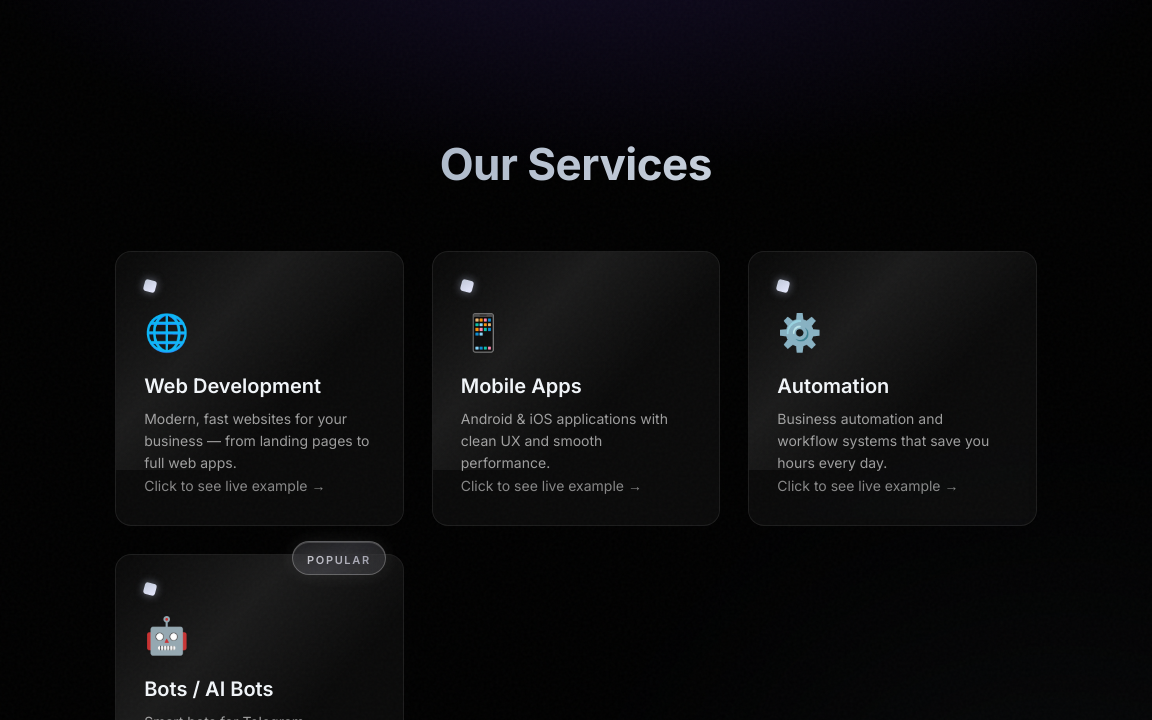
Test: the modal a card opens › Escape and the overlay both close it
Click the element "Web Development".
click(259, 388)  # box [115,250,404,526]
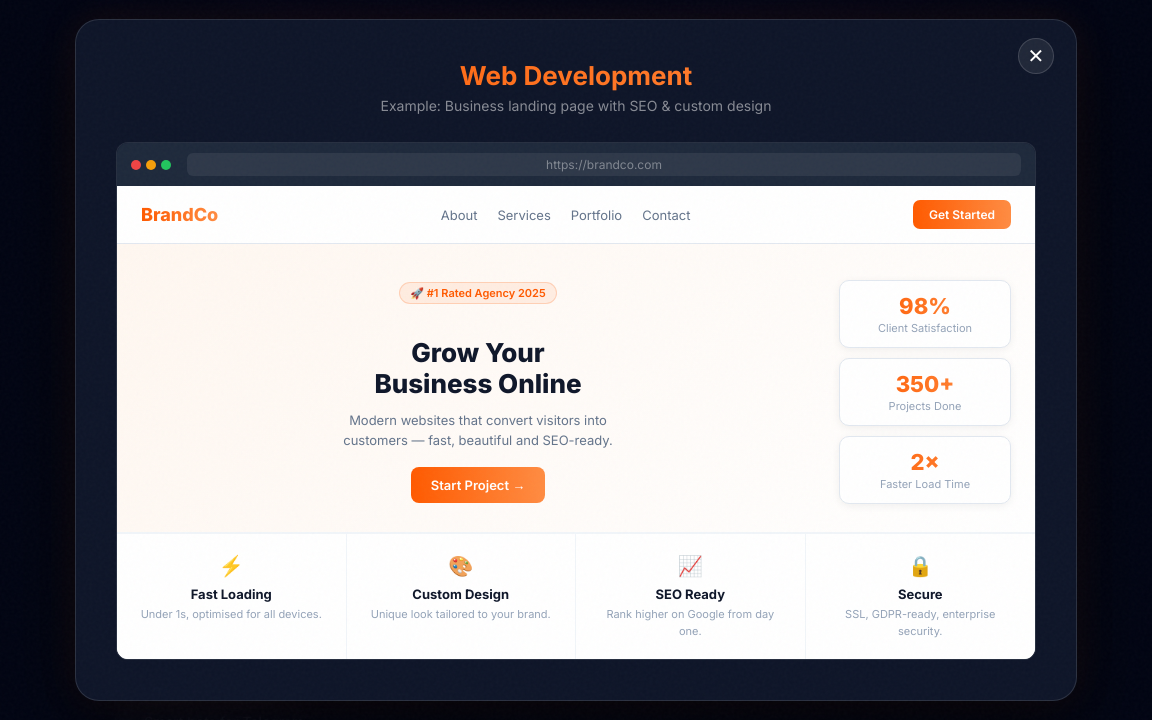
Press Escape
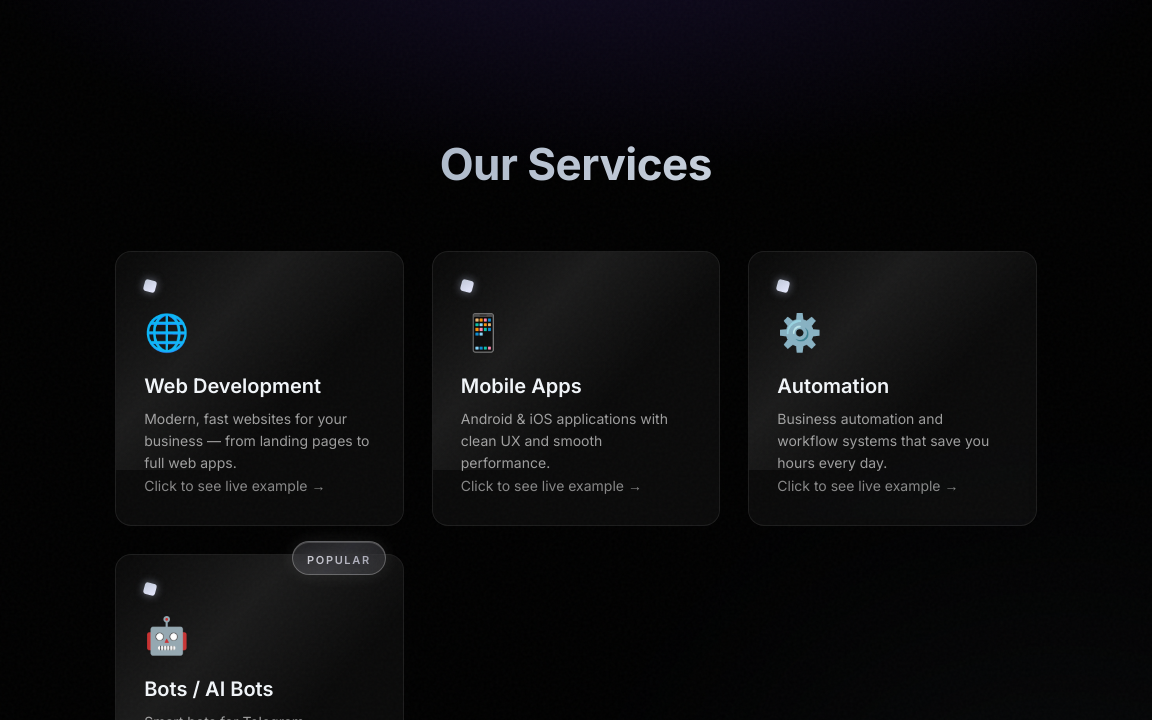
Expected: the element with class "modal-overlay" is gone
Click the element "Web Development".
click(259, 388)  # box [115,250,404,526]
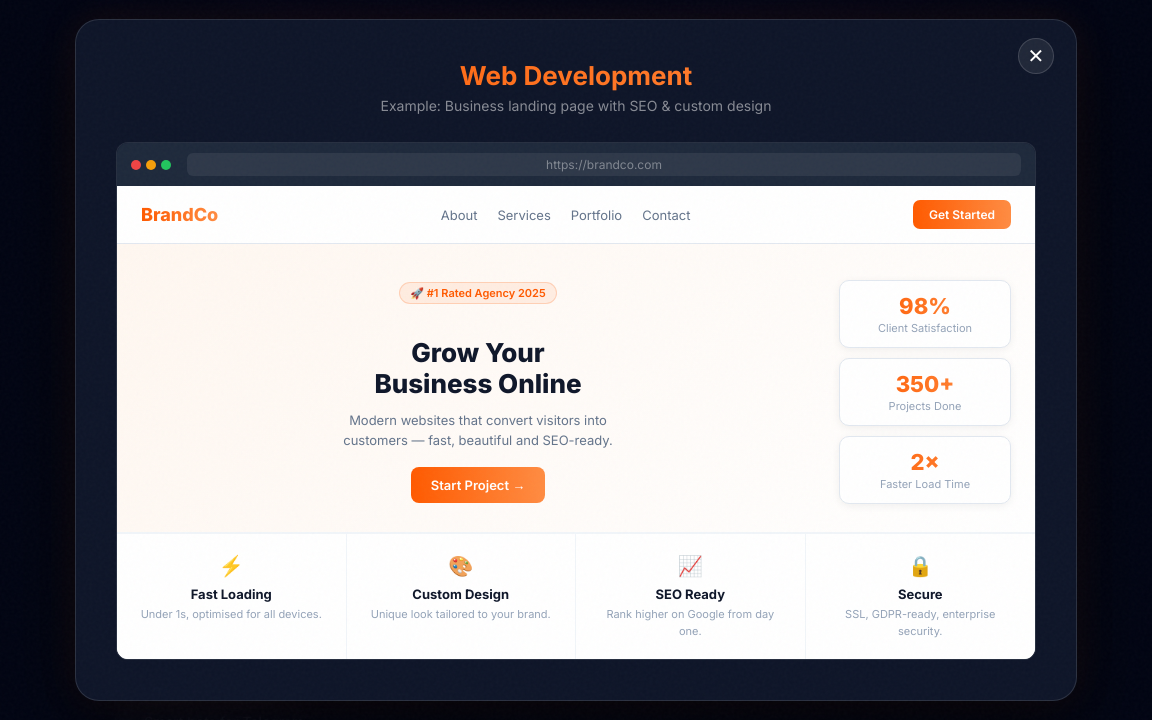
Click the element with class "modal-overlay".
click(69, 360)  # box [0,0,1151,719]
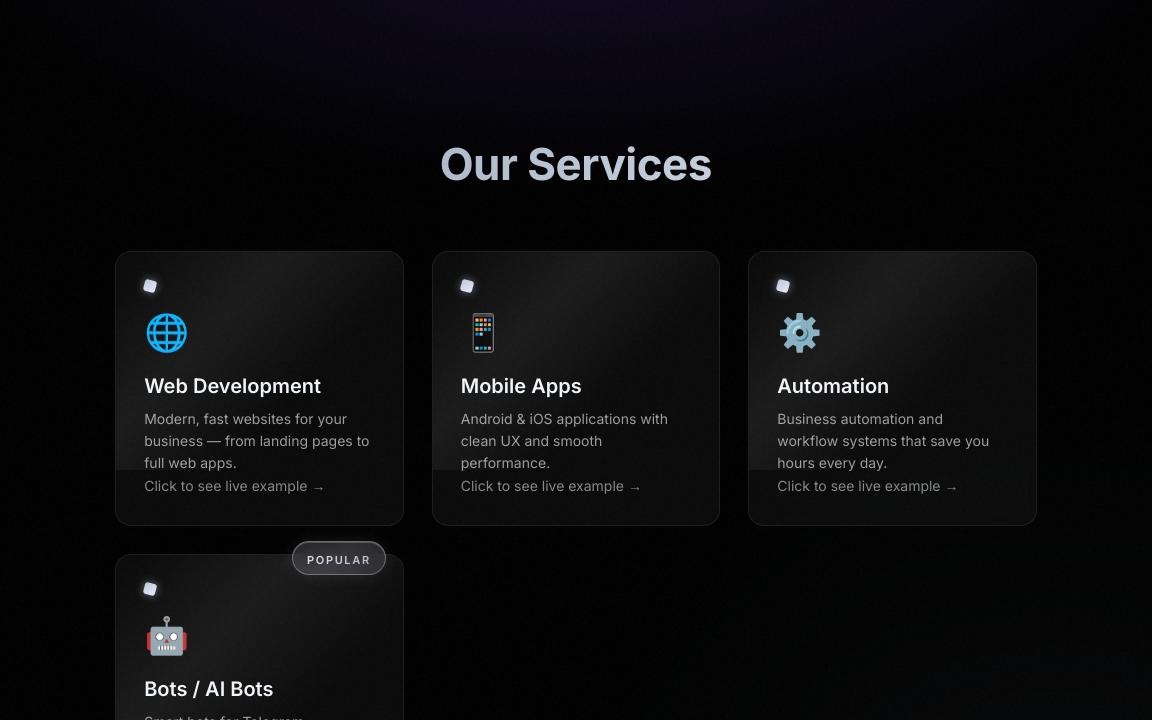
Expected: the element with class "modal-overlay" is gone
